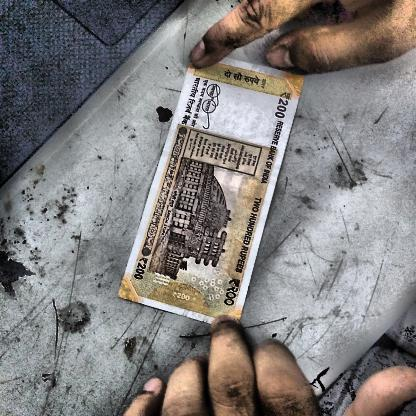Rs200: (271, 87, 297, 123), (130, 251, 154, 285)
